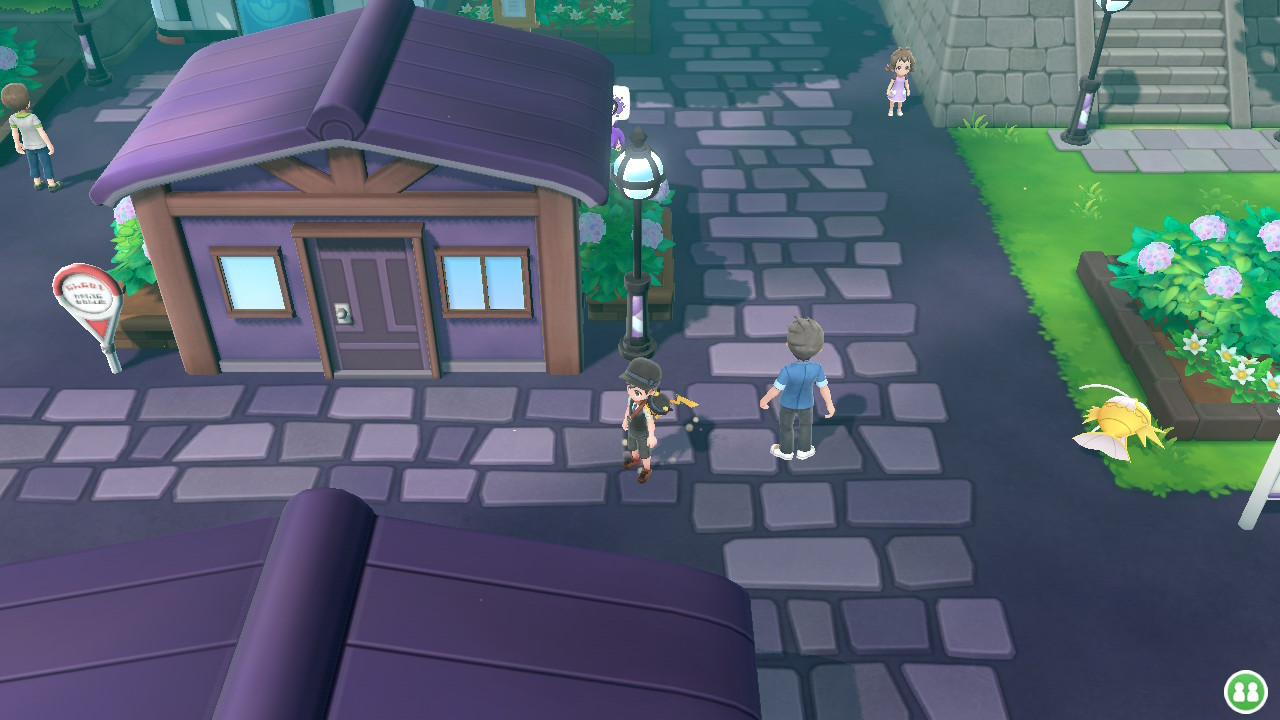Golden: (1068, 383, 1163, 460)
